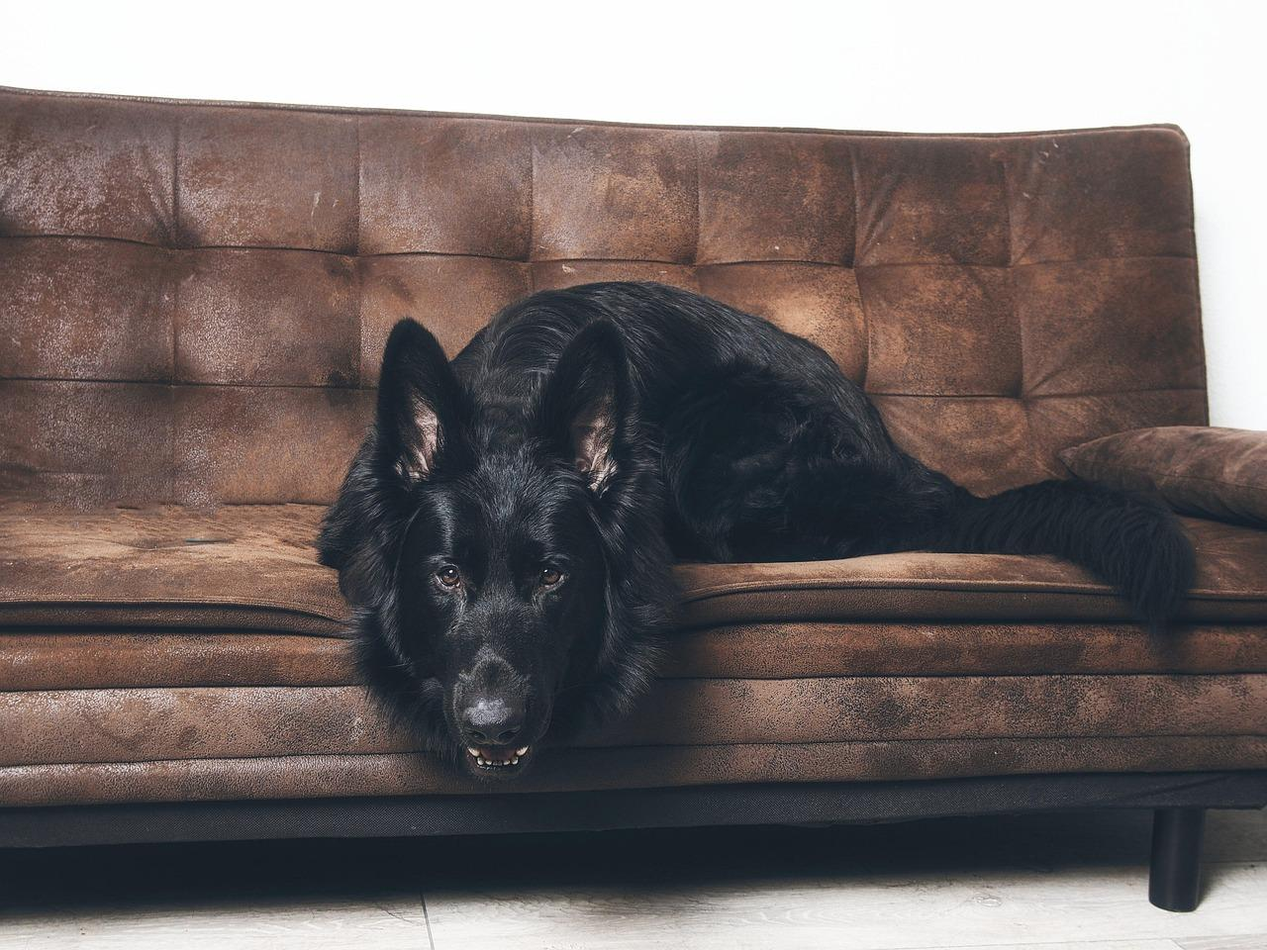german_shepherd: (353, 355, 638, 787)
